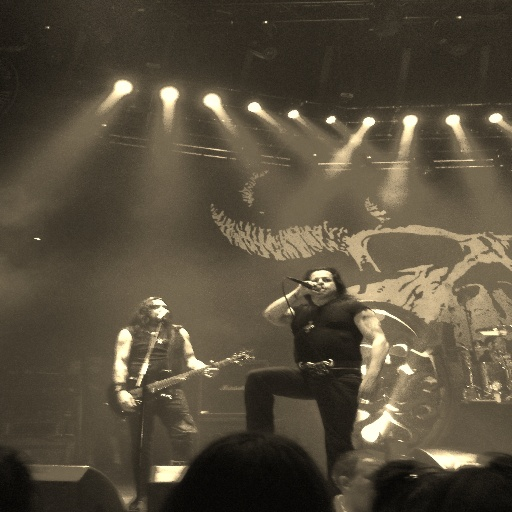hand: (113, 389, 138, 415), (357, 376, 378, 402), (299, 278, 320, 294), (198, 366, 218, 381)
